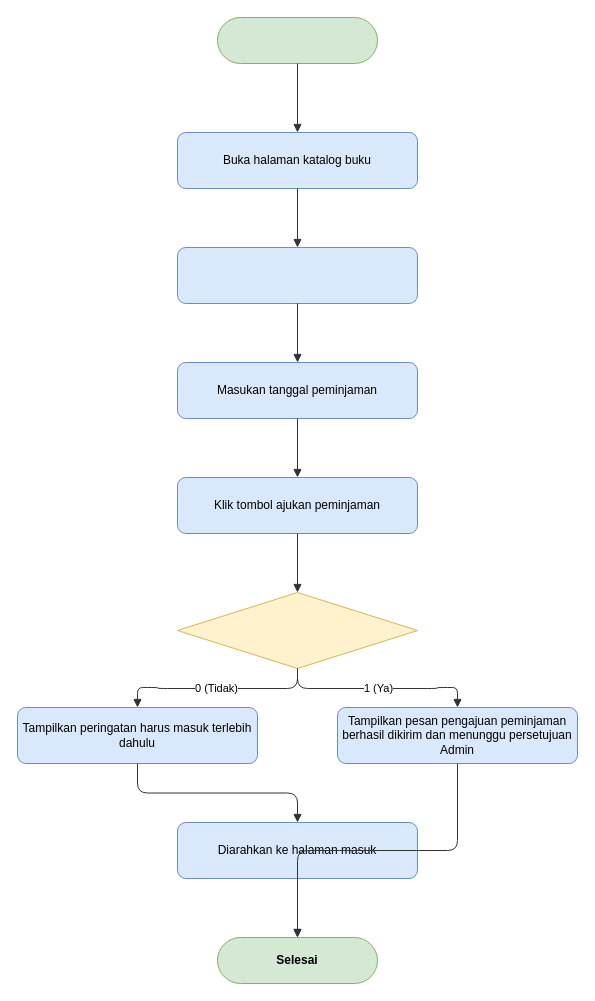
Image size: 595x1001. Some labels were removed from this diagram. Each missing label, with the box of its shape:
Apakah sudah masuk ke akun?: (176, 592, 418, 668)
Mulai: (216, 16, 378, 64)
Pilih buku yang ingin dipinjam: (176, 246, 418, 304)
